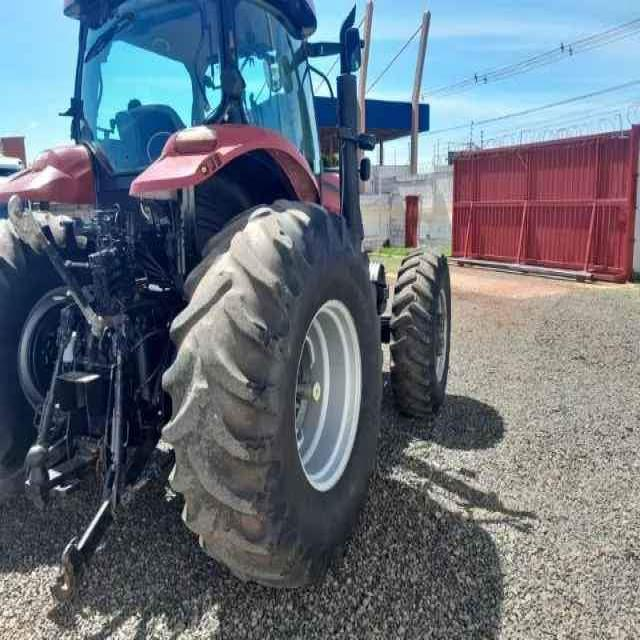Tratores - v5 YOLO V8L 2024-11-13: (0, 0, 453, 590)
